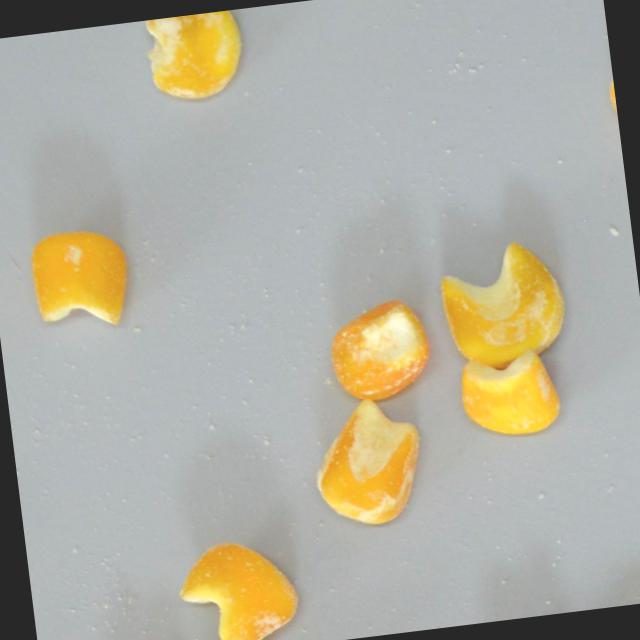pelicula: (304, 390, 428, 531), (435, 235, 569, 365), (172, 532, 304, 640), (323, 291, 434, 402), (26, 222, 134, 332), (140, 8, 247, 102), (457, 347, 563, 441)
